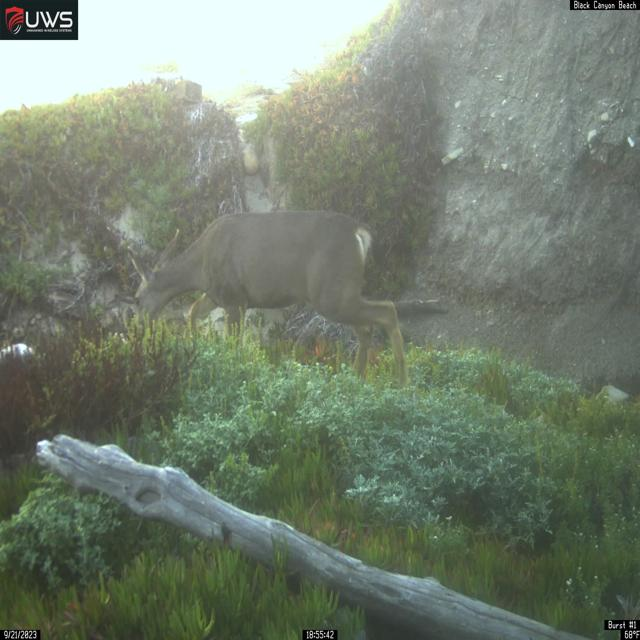deer: (128, 209, 409, 390)
